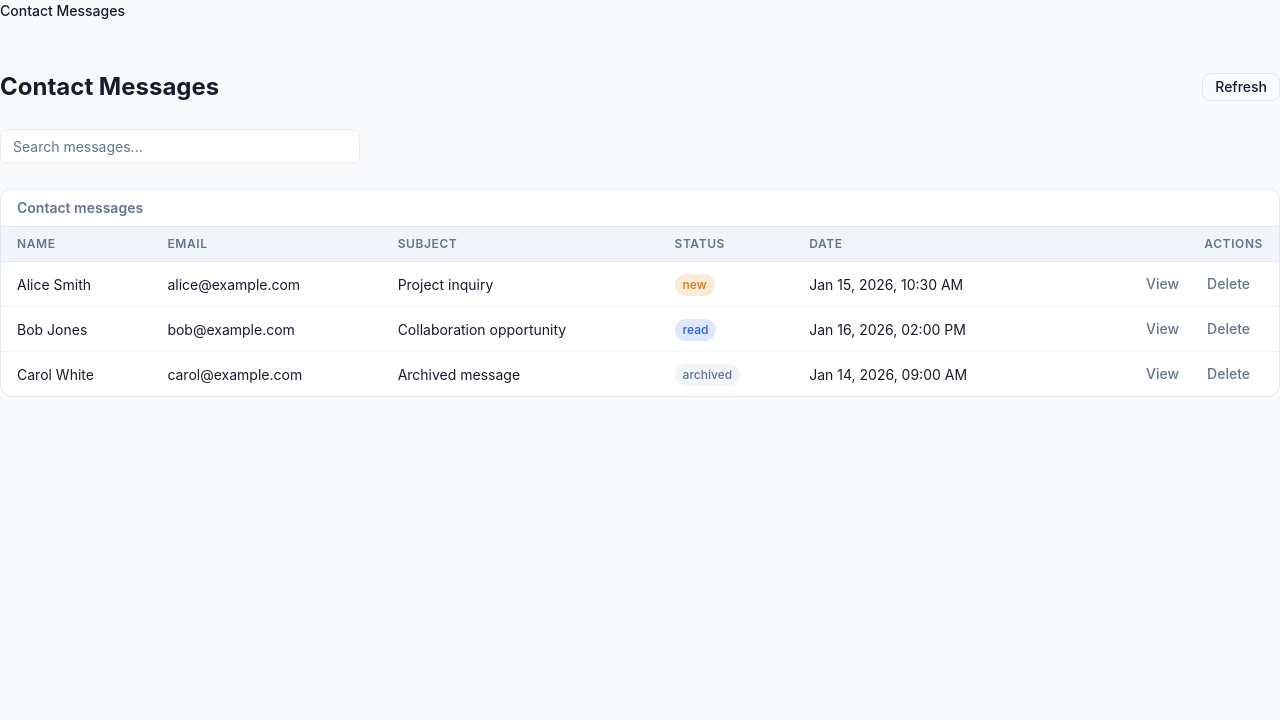
ContactMessagesPage › closes the view modal when Close is clicked
The width and height of the screenshot is (1280, 720).
Click the button with aria-label "view message from alice smith". click: (1163, 284)
box: left=1133, top=270, right=1192, bottom=298
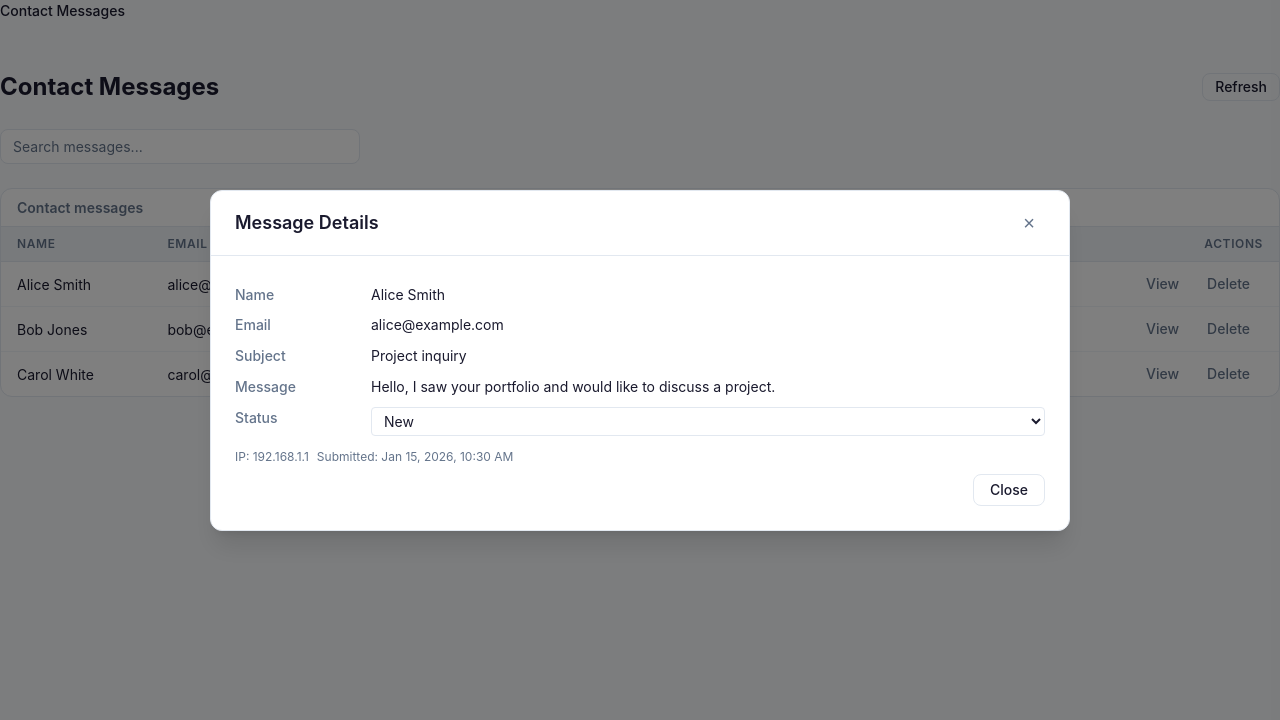
Result: the dialog "Message Details" is shown at left=210, top=190, right=1070, bottom=530
Click the button named "close dialog". click: (1029, 222)
box: left=1013, top=206, right=1045, bottom=238
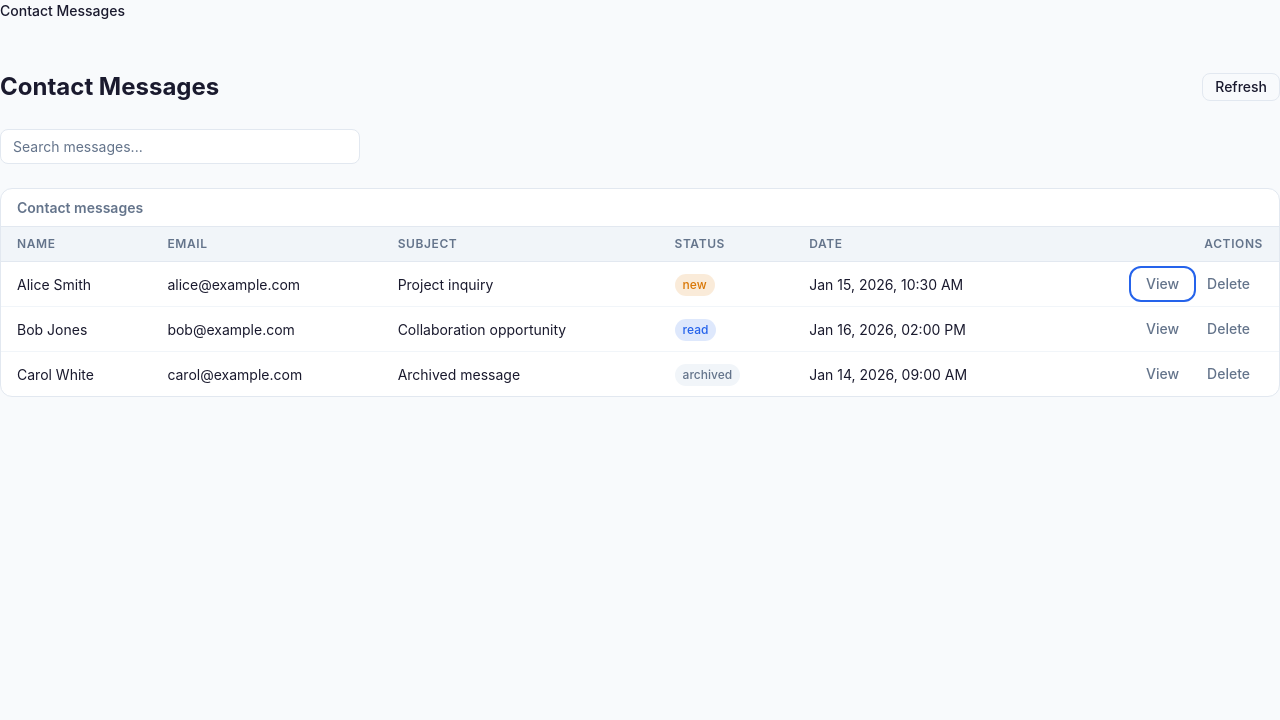
Result: the heading "Message Details" is gone
